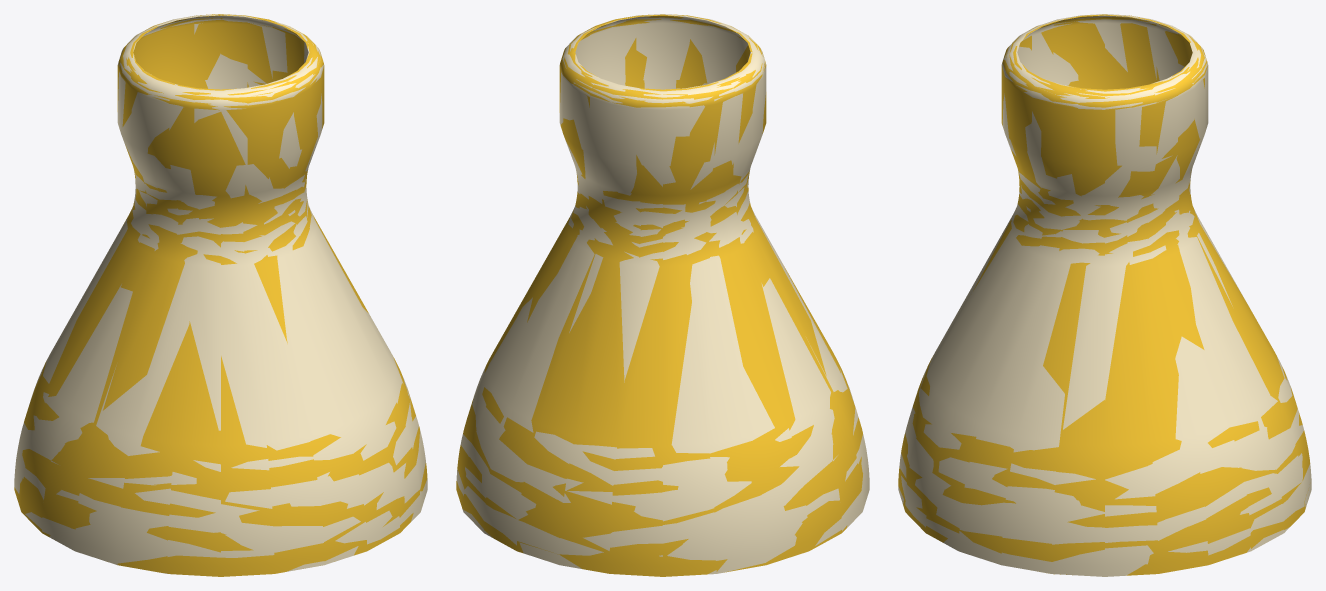
File: original-3.obj
3 renders of one model, left to right at view 1: azimuth 30°, elevation 25°; view 2: azimuth 150°, elevation 25°; view 3: azimuth 270°, elevation 25°, orthographic.
Visible parts, largest first — view 1: #ID6; view 2: #ID6; view 3: #ID6.
Boxes of the visible parts, x1,y1,x2,y2 form: #ID6: (14,14,427,576); #ID6: (456,14,869,576); #ID6: (898,14,1311,576).
Size of the model in its own units: 0.5193 by 0.6059 by 0.5194.
